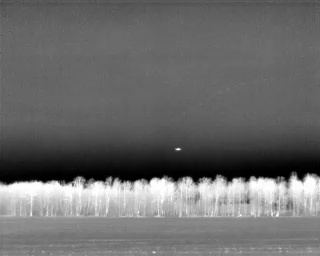DRONE: (172, 144, 184, 155)
